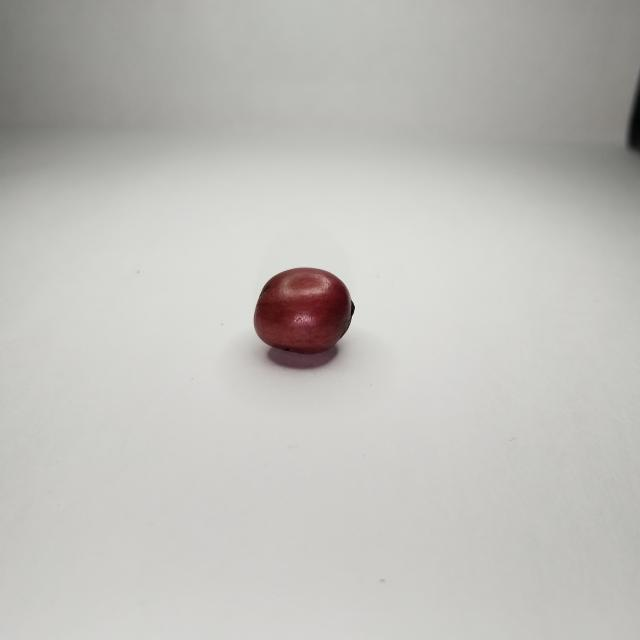Sano: (254, 267, 354, 357)
